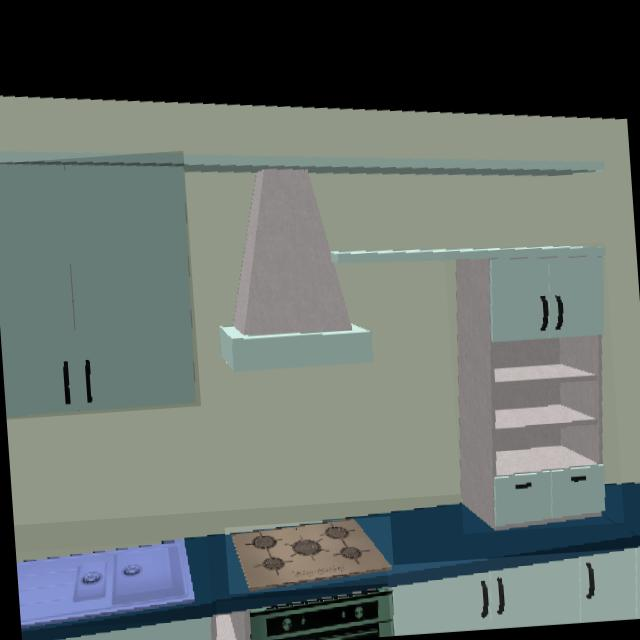cabinet: (0, 164, 196, 418), (454, 247, 606, 531), (389, 549, 640, 635), (69, 619, 248, 640)
countertop: (21, 484, 640, 640)
oven: (217, 592, 395, 640)
sink: (17, 542, 212, 640)
stove: (225, 521, 394, 593)
